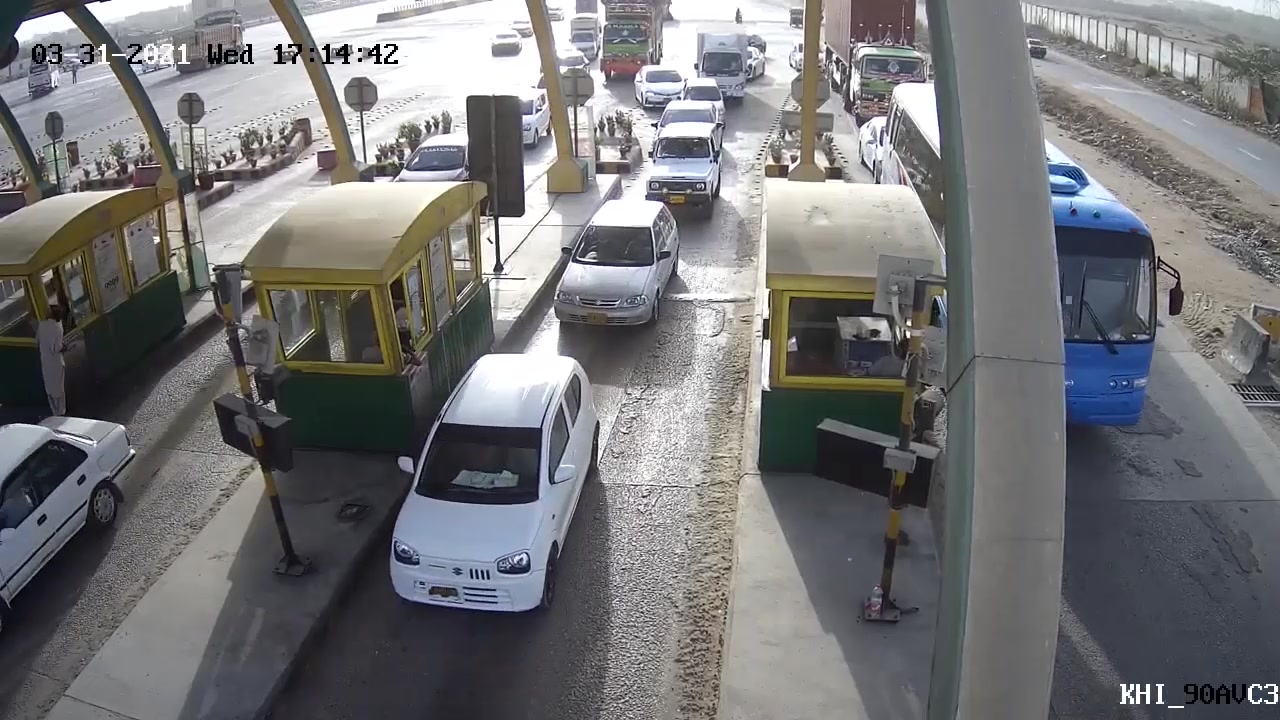F1: (385, 346, 609, 615), (557, 197, 676, 336), (642, 128, 728, 218)
